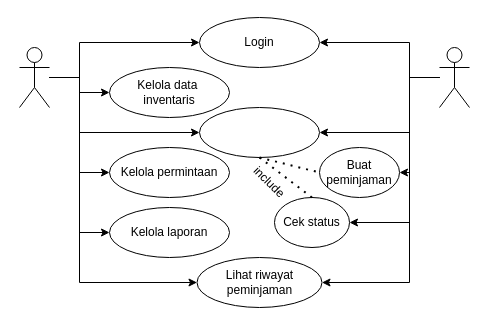
Some shapes in this 487 by 325 pixel diagram are drawn without their labels. Here are the shapes that lost their labels. From the top down, the centre of each, then its label:
the point at 34,77: Admin
the point at 454,77: User
the point at 259,132: Lihat data inventaris
